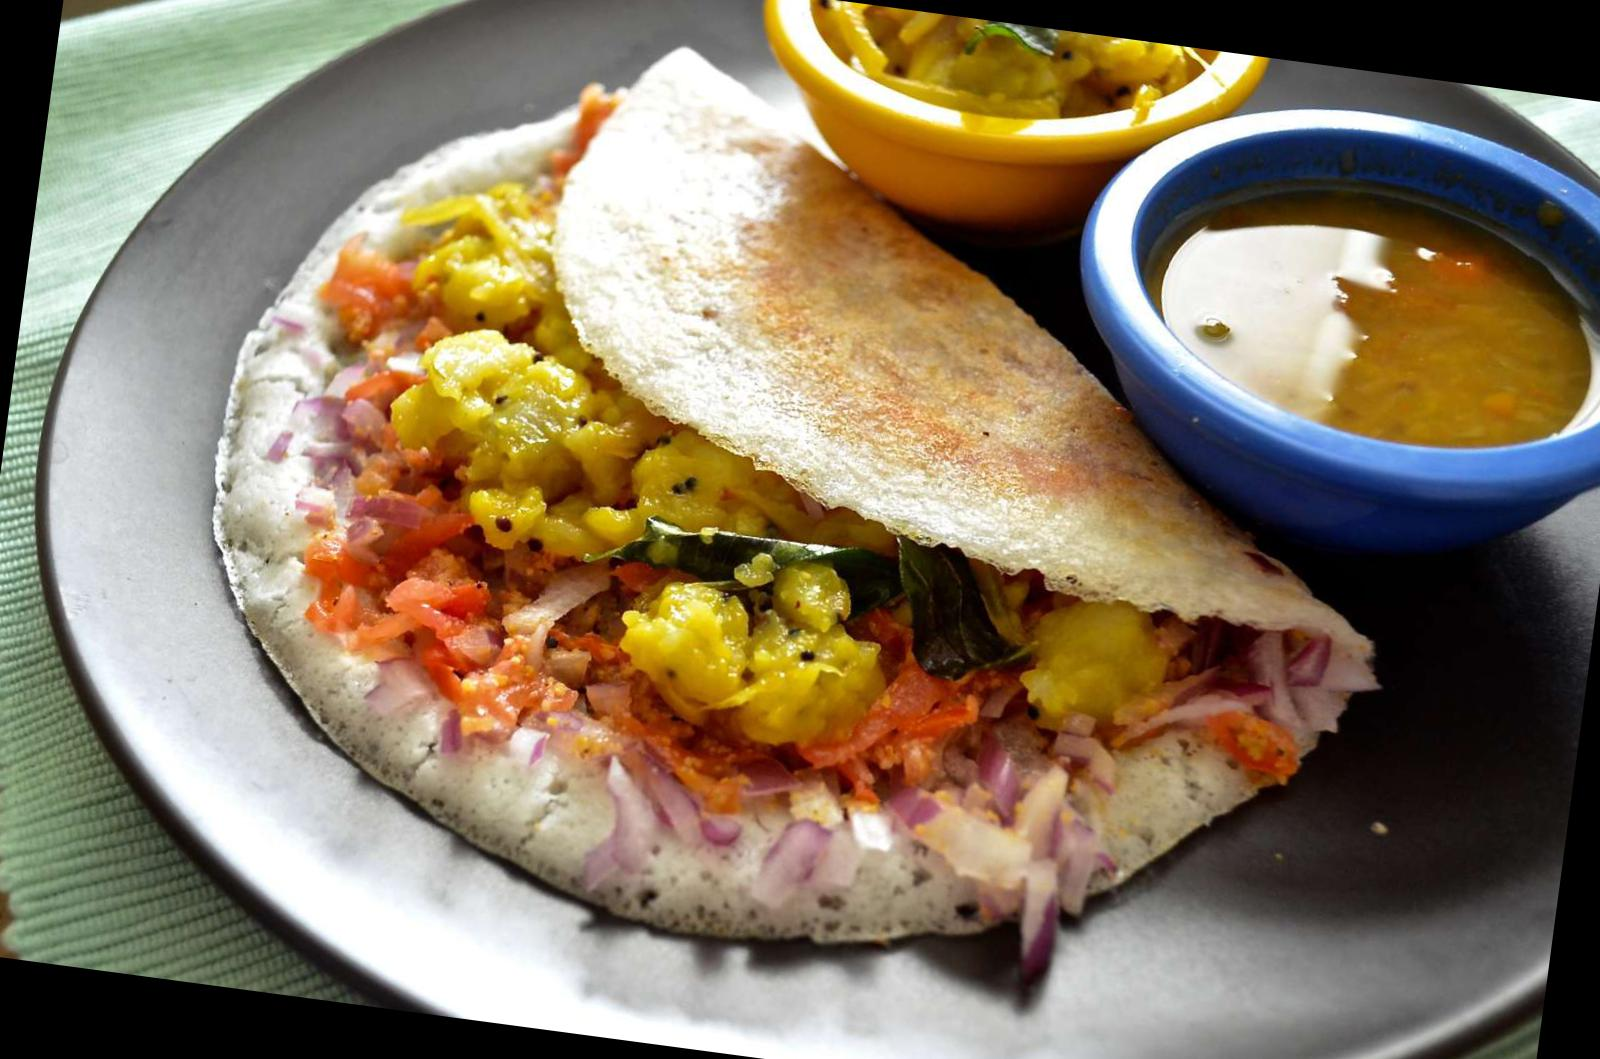dosa: (215, 44, 1414, 962)
